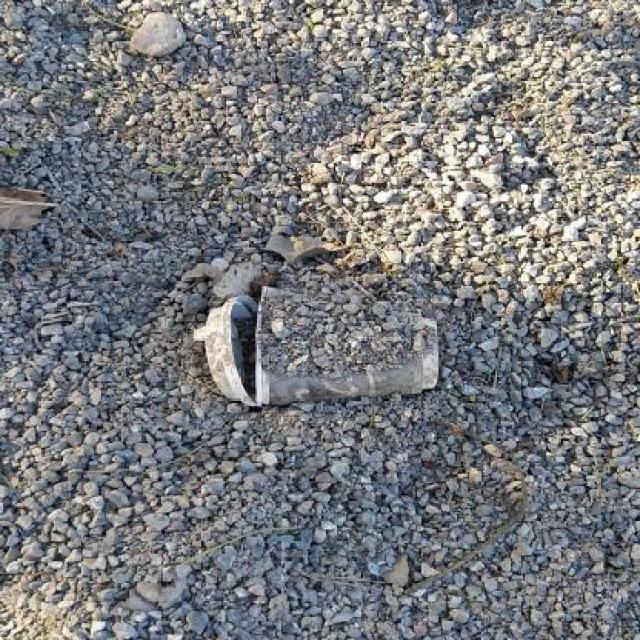plastic: (191, 284, 444, 408)
